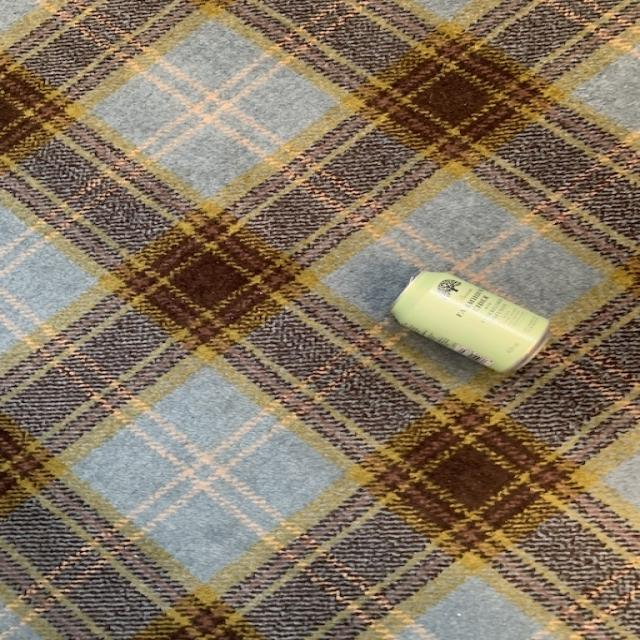litter: (392, 268, 556, 378)
